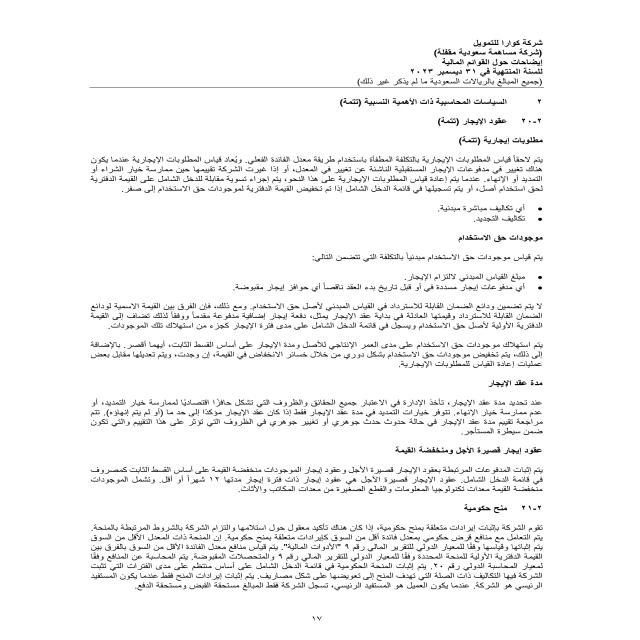notes: (438, 58, 549, 69)
text: (72, 93, 550, 600)
